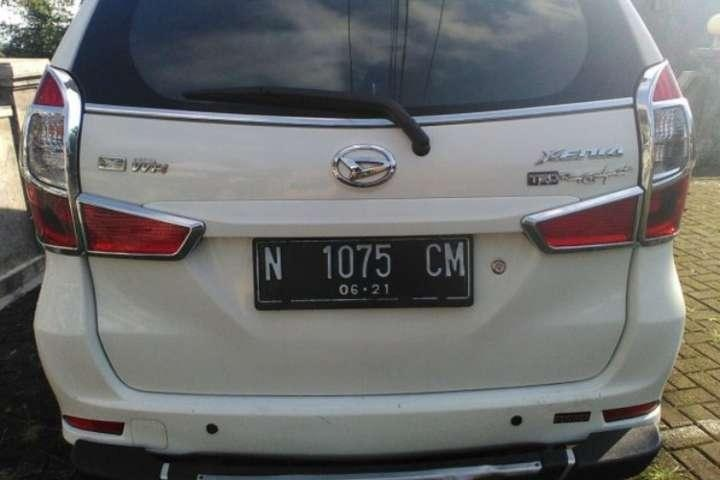plate: (252, 239, 473, 311)
